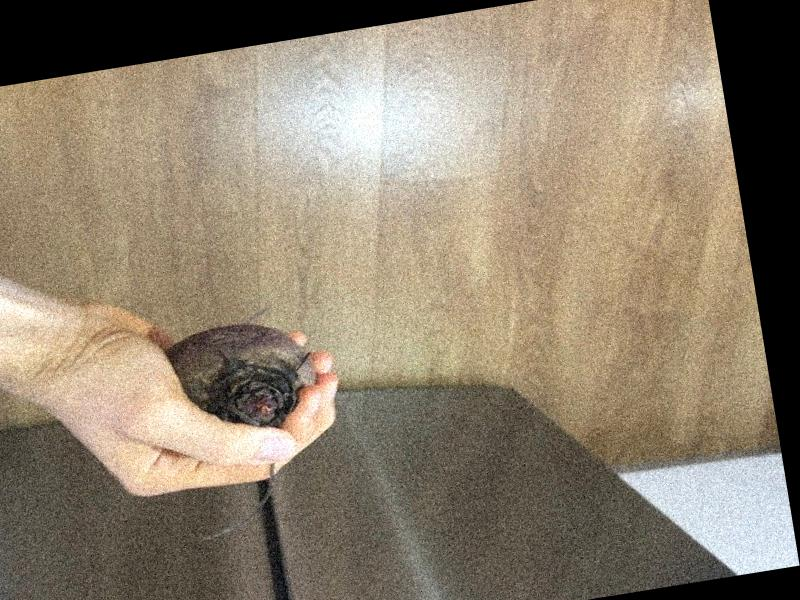Beet: (161, 312, 340, 543)
